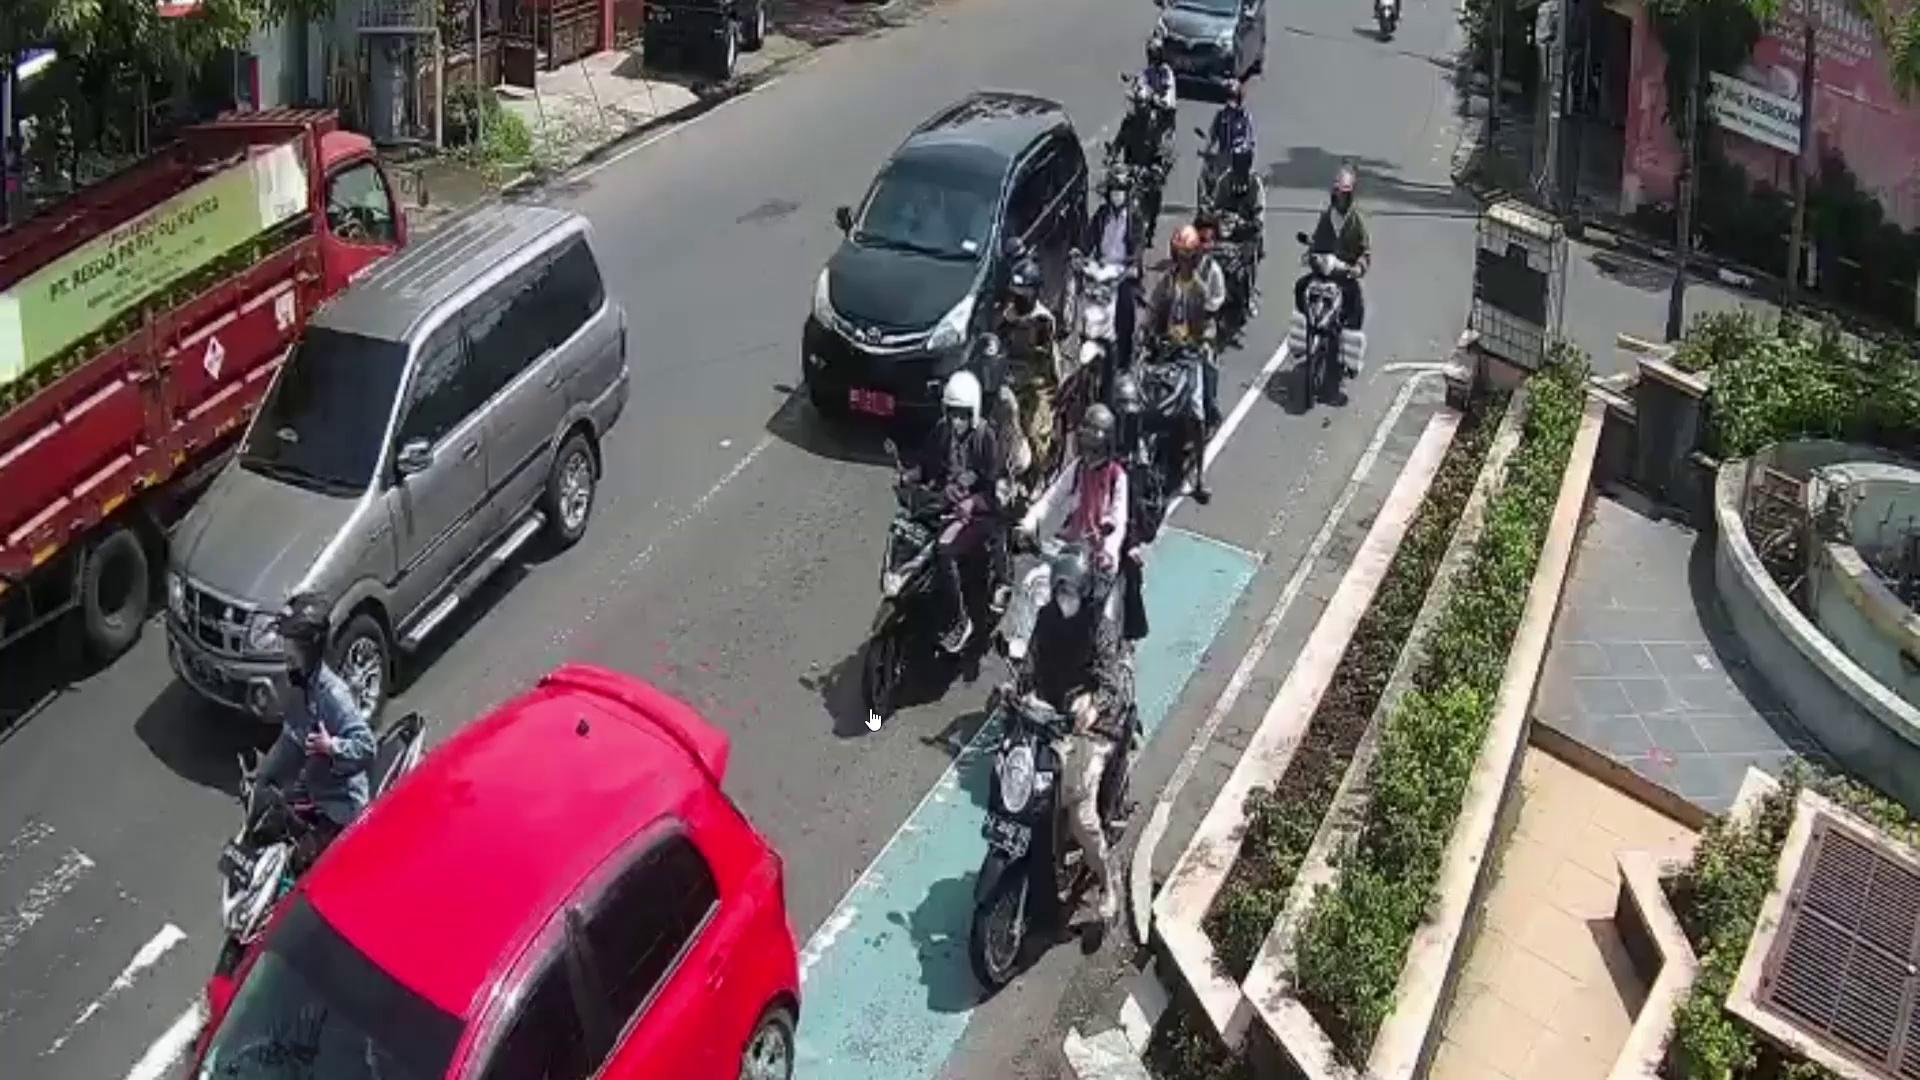car: (187, 658, 802, 1080), (167, 202, 629, 731), (802, 94, 1089, 440), (1153, 0, 1265, 94)
motorbike: (975, 663, 1137, 986), (865, 472, 1017, 702), (1291, 245, 1350, 413), (1135, 323, 1200, 467)
truck: (0, 109, 405, 655)
